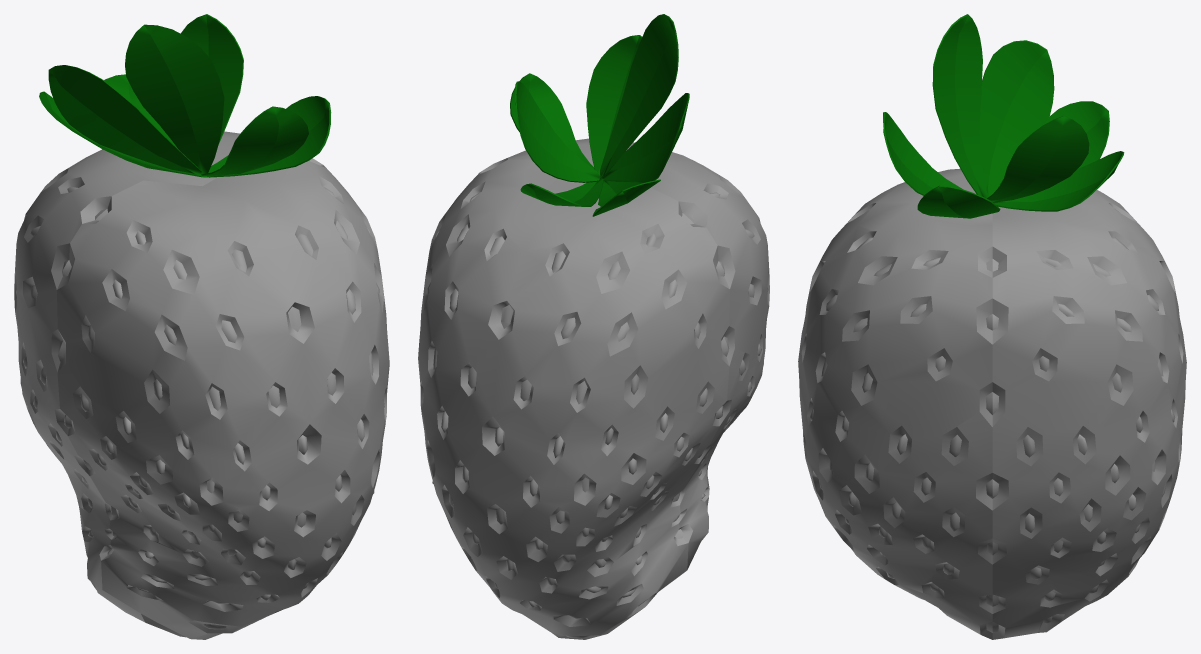
File: mFraise2.FBX
3 views of the same model, side by side, from view 1: azimuth 30°, elevation 25°; view 2: azimuth 150°, elevation 25°; view 3: azimuth 270°, elevation 25° (orthographic). The views are drawn at different scales.
Parts seen in each view (by area): view 1: Fraise_Positive003, Feuille_fraise_009; view 2: Fraise_Positive003, Feuille_fraise_009; view 3: Fraise_Positive003, Feuille_fraise_009.
Boxes of the visible parts, x1,y1,x2,y2 form: Fraise_Positive003: (14, 131, 389, 639); Feuille_fraise_009: (39, 14, 331, 177); Fraise_Positive003: (418, 138, 769, 639); Feuille_fraise_009: (510, 14, 689, 216); Fraise_Positive003: (798, 168, 1186, 639); Feuille_fraise_009: (883, 14, 1124, 218).
Bounding box in the file's own units: 0.8327 × 1.75 × 1.06.
